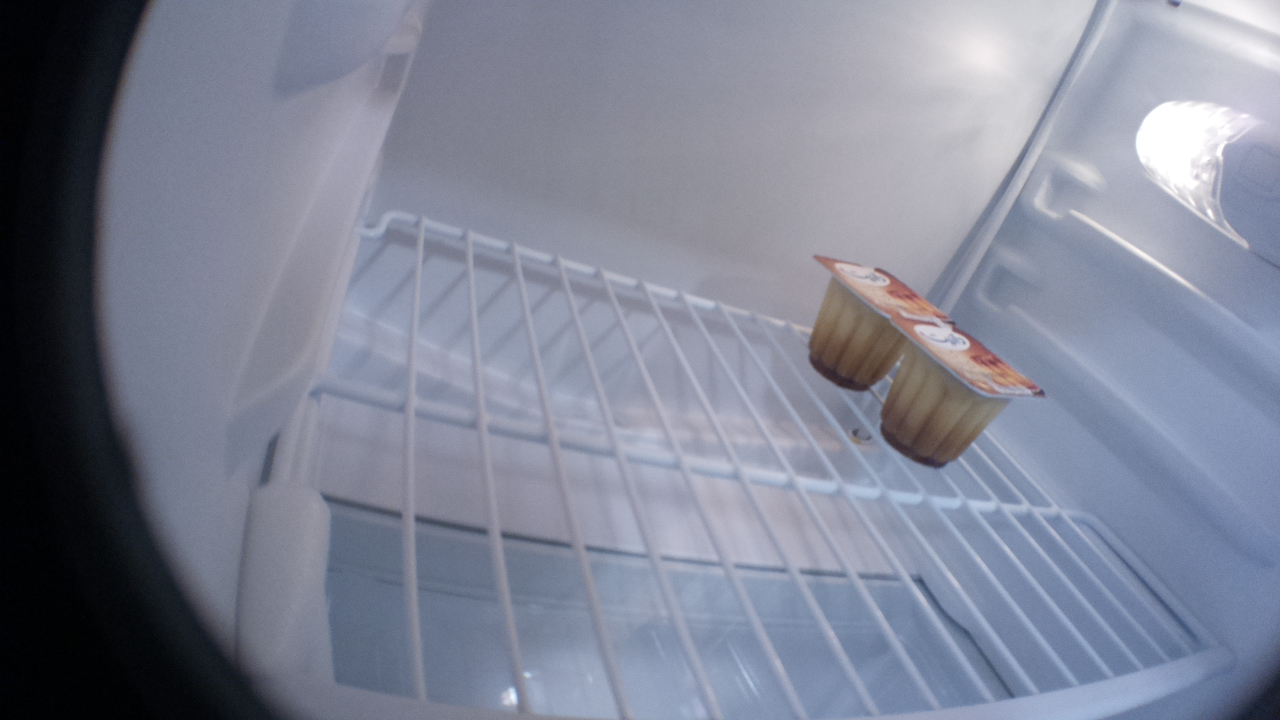caramel: (879, 315, 1047, 467), (807, 252, 954, 392)
